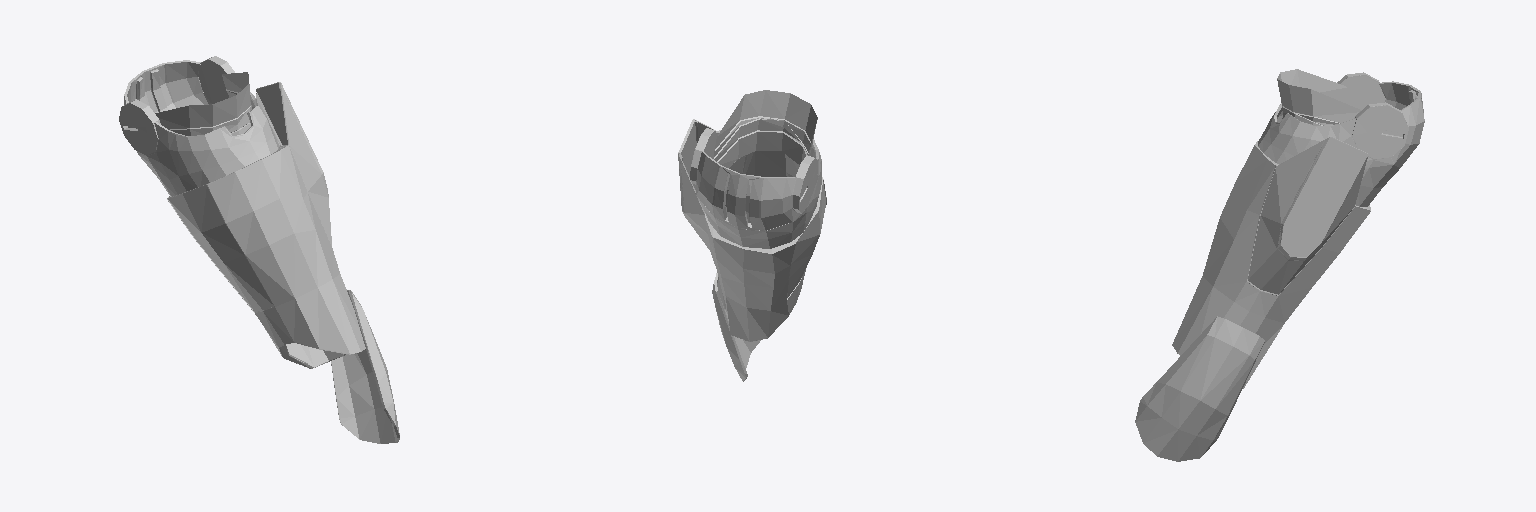
Rendered from ileftd2.obj.
3 renders of one model, left to right at view 1: azimuth 30°, elevation 25°; view 2: azimuth 150°, elevation 25°; view 3: azimuth 270°, elevation 25°, orthographic.
Parts seen in each view (by area): view 1: HD_Ironman:polySurface3972; view 2: HD_Ironman:polySurface3972; view 3: HD_Ironman:polySurface3972.
Boxes of the visible parts, box(x1,y1,x2,y2) form: HD_Ironman:polySurface3972: box(119, 56, 399, 443); HD_Ironman:polySurface3972: box(678, 90, 826, 381); HD_Ironman:polySurface3972: box(1135, 69, 1424, 461).
Bounding box in the file's own units: 2.18 × 4.16 × 3.2.